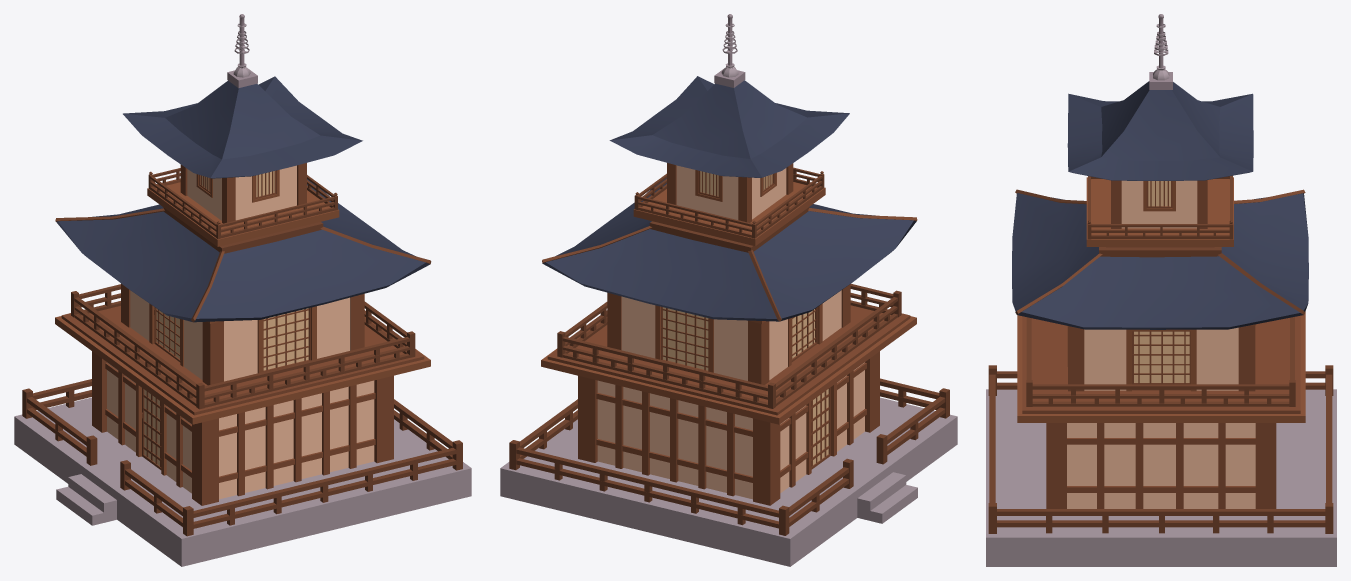
The model's file is houme011_1.fbx.
The picture shows the model from 3 angles, left to right: view 1: azimuth 30°, elevation 25°; view 2: azimuth 150°, elevation 25°; view 3: azimuth 270°, elevation 25°; orthographic projection. The views are drawn at different scales.
Visible parts, largest first — view 1: houme11_1, foundation_11_1_1, fence_11_1_1, fence_11_2_1, on_the_roof_11_1_1; view 2: houme11_1, foundation_11_1_1, fence_11_1_1, fence_11_2_1, on_the_roof_11_1_1; view 3: houme11_1, foundation_11_1_1, fence_11_1_1, fence_11_2_1, on_the_roof_11_1_1.
Part boxes in pixels (box(x1,y1,x2,y2)): houme11_1: box(55, 76, 431, 505); foundation_11_1_1: box(14, 397, 471, 566); fence_11_1_1: box(22, 379, 462, 536); fence_11_2_1: box(71, 284, 415, 409); on_the_roof_11_1_1: box(227, 14, 257, 88); houme11_1: box(541, 76, 917, 505); foundation_11_1_1: box(500, 397, 957, 566); fence_11_1_1: box(509, 378, 949, 535); fence_11_2_1: box(557, 283, 901, 408); on_the_roof_11_1_1: box(714, 14, 745, 87); houme11_1: box(1012, 81, 1308, 508); foundation_11_1_1: box(986, 389, 1336, 566); fence_11_1_1: box(988, 365, 1333, 533); fence_11_2_1: box(1026, 317, 1295, 406); on_the_roof_11_1_1: box(1149, 14, 1172, 89).
Bounding box in the file's own units: 1766 × 2445 × 1627.
